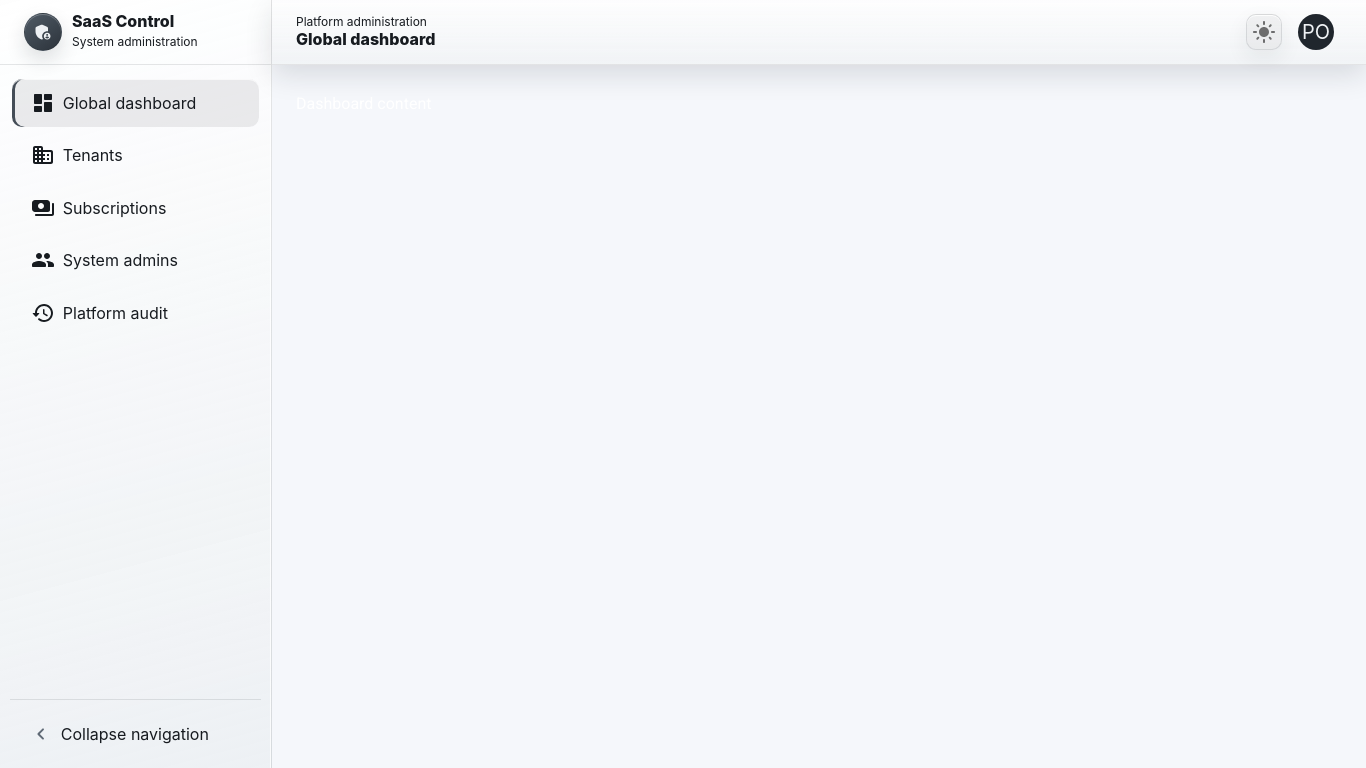
Scenario: SystemAdminShell › exposes theme switching and desktop navigation collapse controls
The image size is (1366, 768).
Expected: the button named "switch to light theme" is shown, [1246,14,1282,50]
Click the button "Collapse navigation" at (119, 734), box [29,722,209,746]
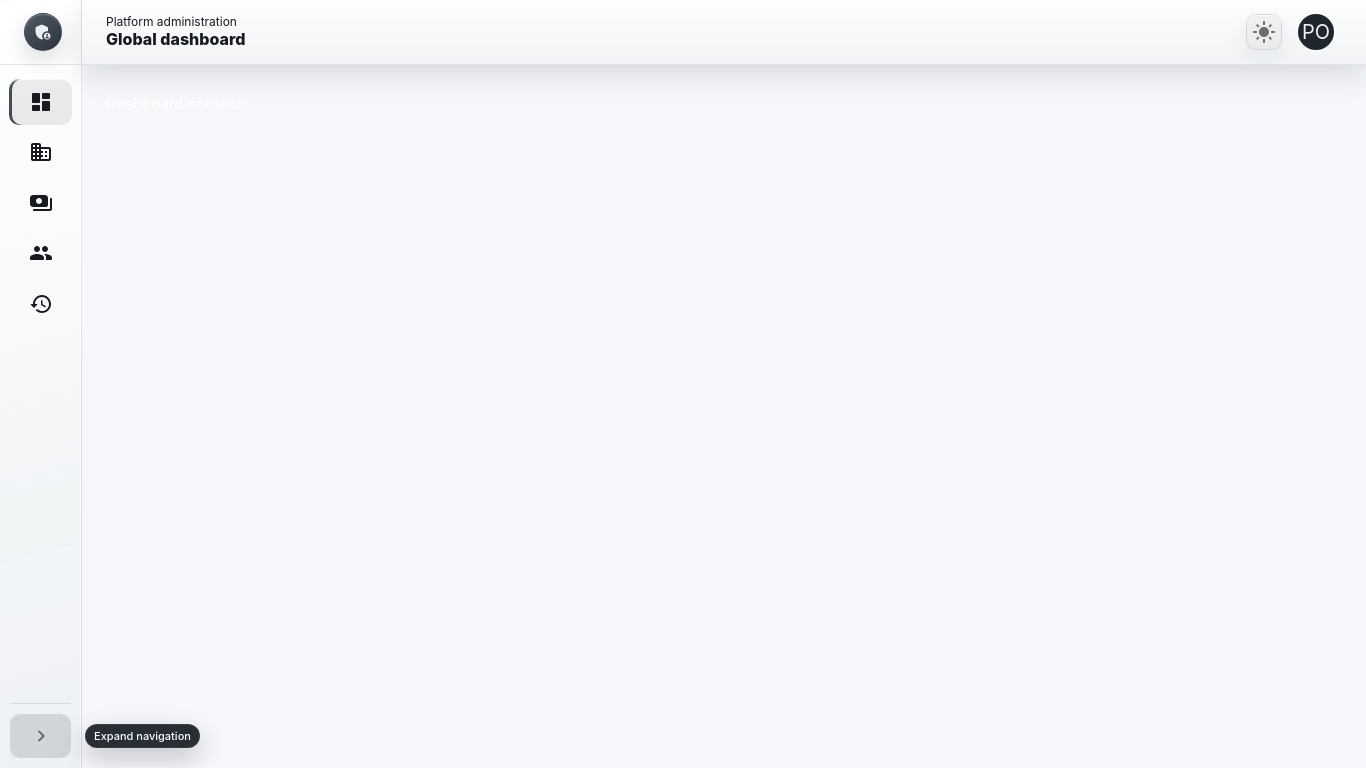
Expected: the button named "expand navigation" is shown, [10,714,71,758]
